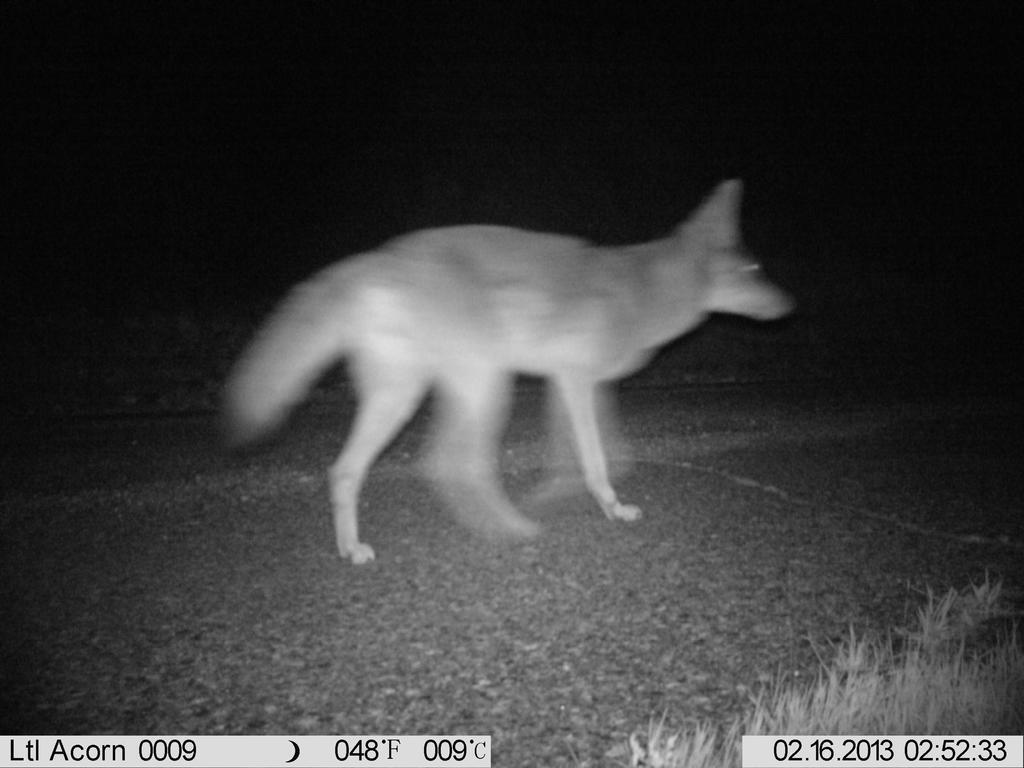coyote: (210, 171, 803, 570)
